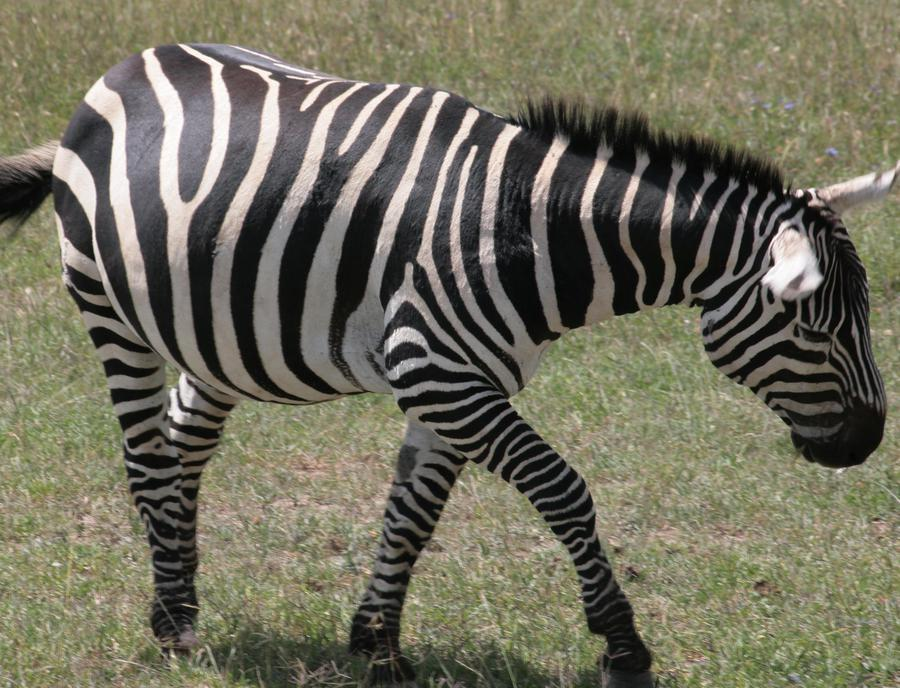zebra_plains: (51, 73, 498, 343)
